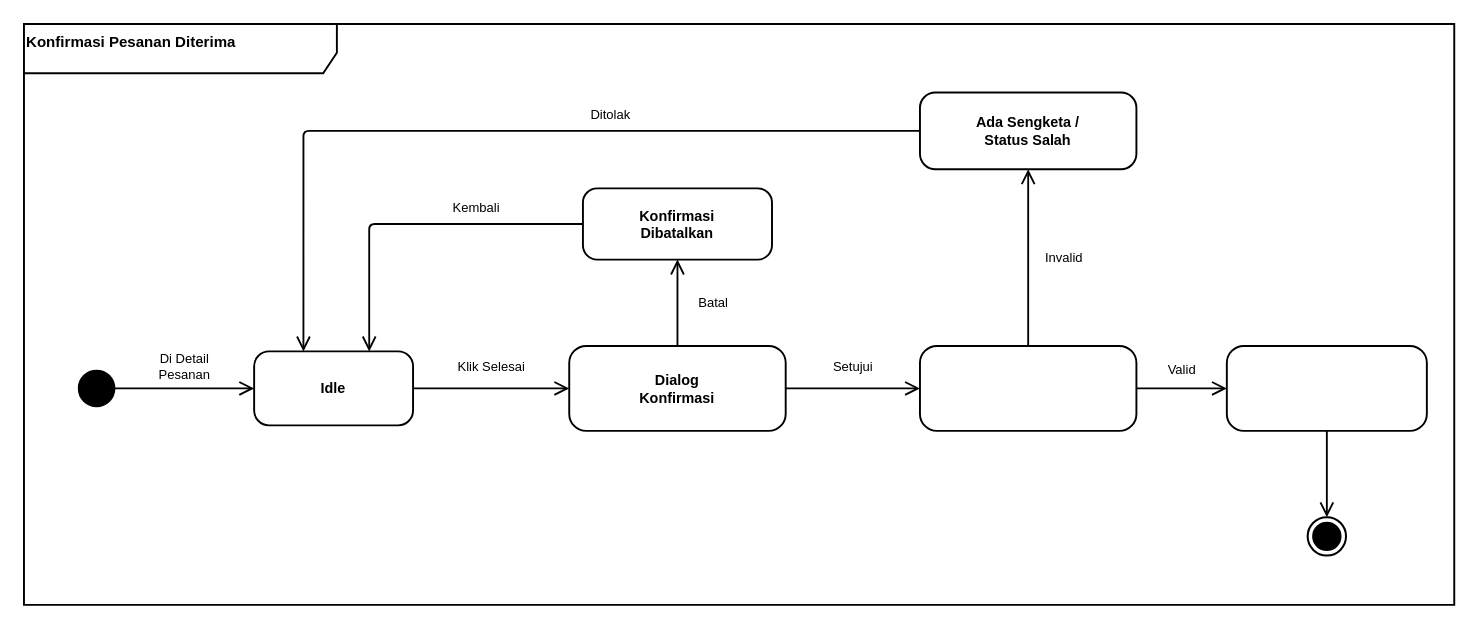
Image size: 1480x630. Some labels were removed from this diagram. Here are the shapes that lost their labels. From the top down, the centre of each, then its label:
the point at 1027,387: Cek Status & Cairkan Escrow
the point at 1326,387: Pesanan Selesai
